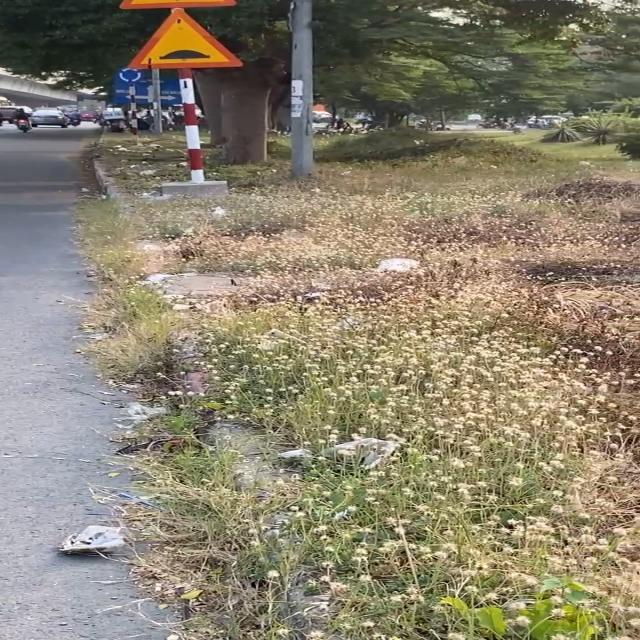221-duong-go-ghe: (128, 9, 244, 68)
303-noi-giao-nhau-chay-theo-vong-xuyen: (114, 64, 145, 86)
